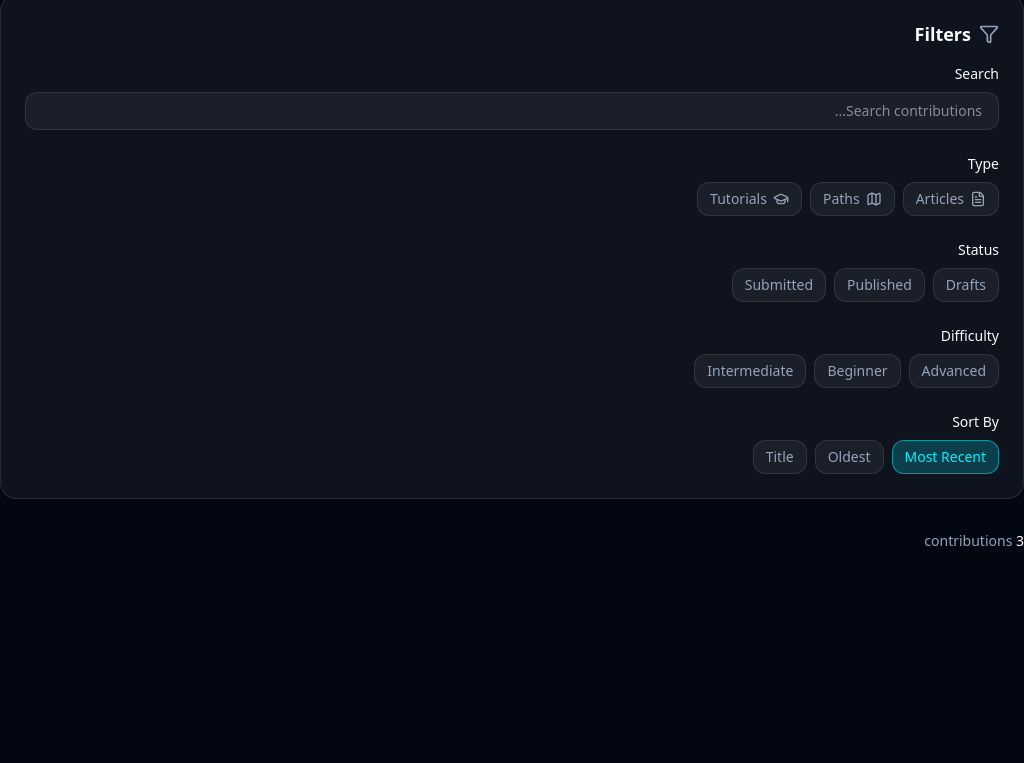
ContributionList › shows clear filters button in empty state when filters are active
Search for something that doesn't exist
Type "nonexistent" into the field with placeholder "Search contributions..." at coordinates (512, 111), box [25,92,999,130]
(page scrolled)
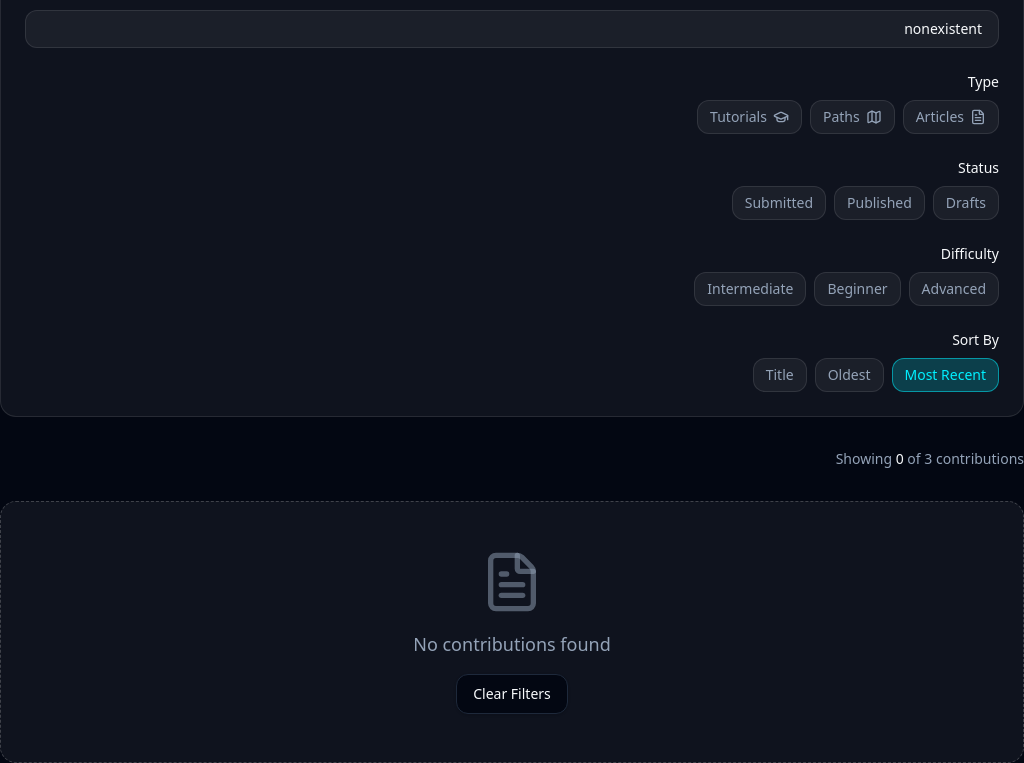
Check: the button "Clear Filters" is shown, box [456,674,568,714]
